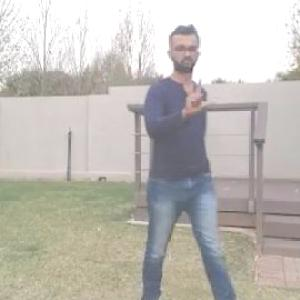land_hand: (181, 77, 221, 121)
